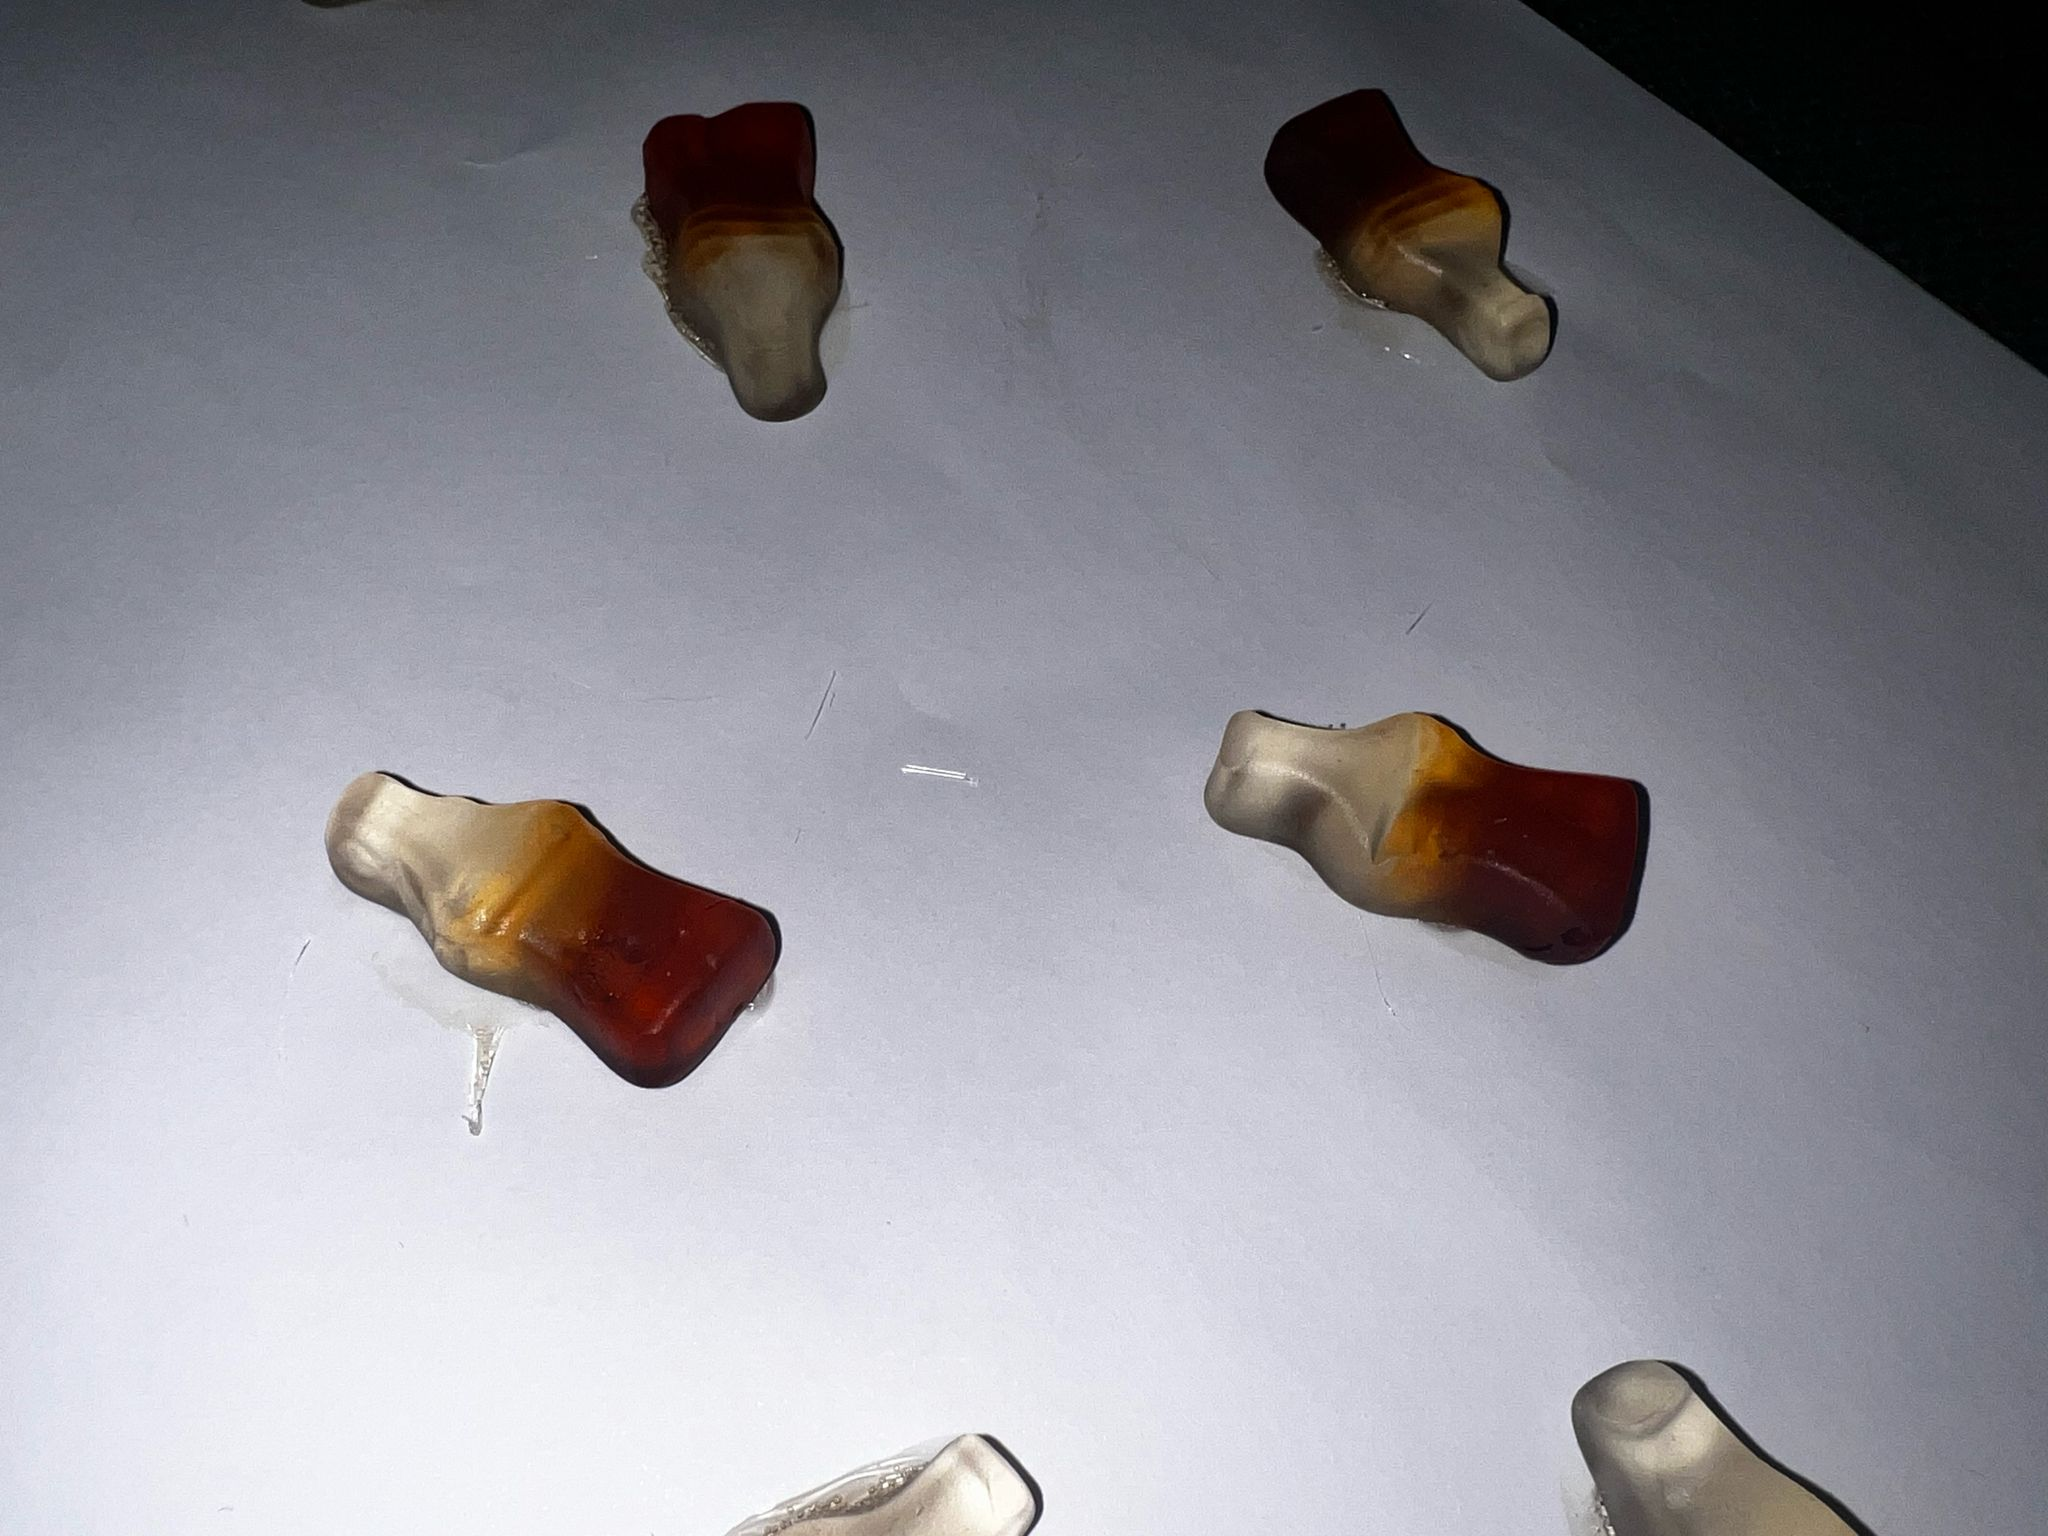cola: (318, 747, 792, 1091), (1193, 694, 1664, 971), (1263, 79, 1574, 387), (637, 87, 851, 429)
